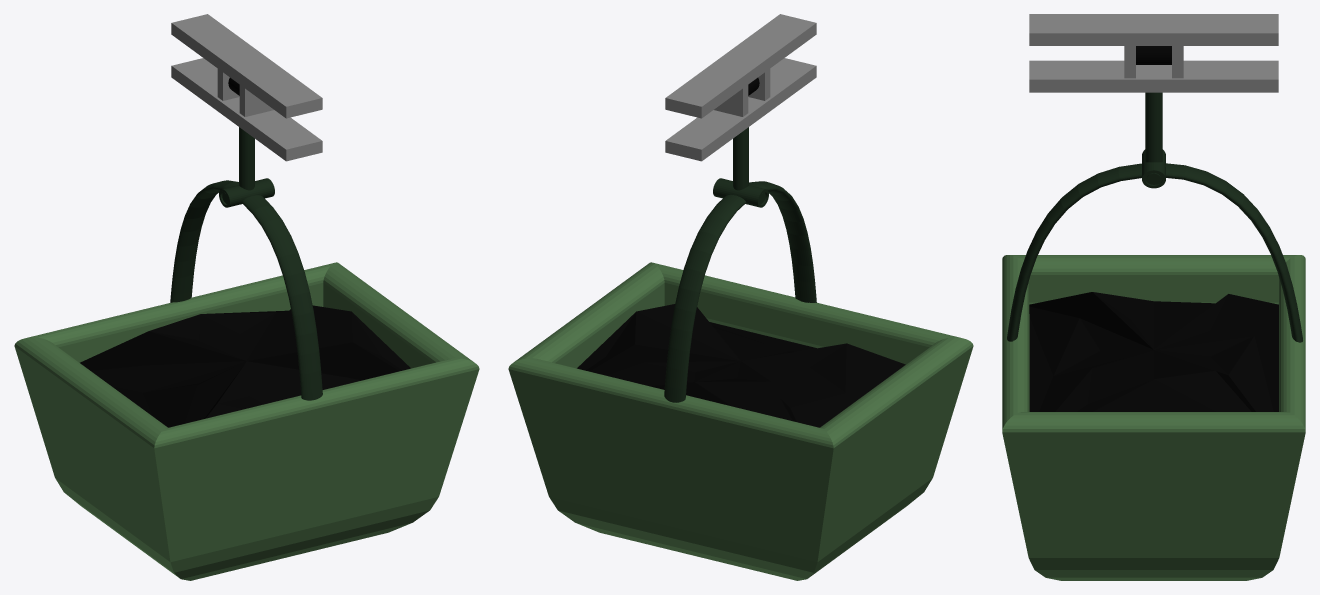
Rendered from minecart.glb.
The picture shows the model from 3 angles, left to right: view 1: azimuth 30°, elevation 25°; view 2: azimuth 150°, elevation 25°; view 3: azimuth 270°, elevation 25°; orthographic projection. The views are drawn at different scales.
Parts seen in each view (by area): view 1: Cube, Plane, Cube.001, Cylinder; view 2: Cube, Plane, Cube.001, Cylinder; view 3: Cube, Plane, Cube.001, Cylinder, Cylinder.003.
Part boxes in pixels (x1,y1,x2,y2): Cube: (14,262,479,580); Plane: (80,305,410,427); Cube.001: (171,14,322,161); Cylinder: (170,127,322,400); Cube: (508,262,973,580); Plane: (577,304,905,427); Cube.001: (665,14,816,161); Cylinder: (664,127,816,402); Cube: (1002,255,1305,580); Plane: (1029,292,1278,411); Cube.001: (1029,14,1278,92); Cylinder: (1007,92,1302,342); Cylinder.003: (1136,46,1171,64).
Bounding box in the file's own units: 4.77 × 6.72 × 3.55.
